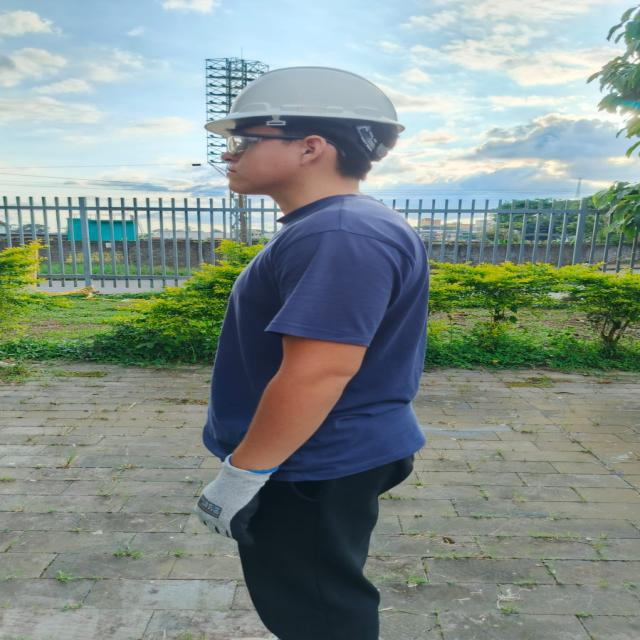gloves: (194, 455, 278, 544)
helmet: (206, 66, 404, 137)
protective_glasses: (221, 133, 309, 154)
